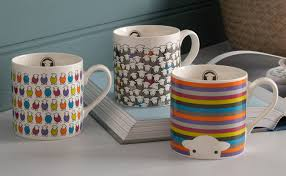mug: (165, 56, 280, 163), (1, 42, 121, 140), (105, 18, 204, 121)
